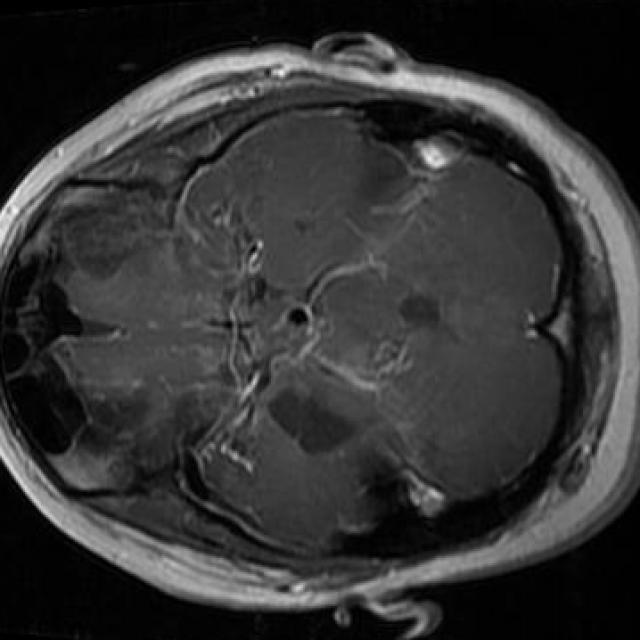glioma: (269, 390, 355, 453)
